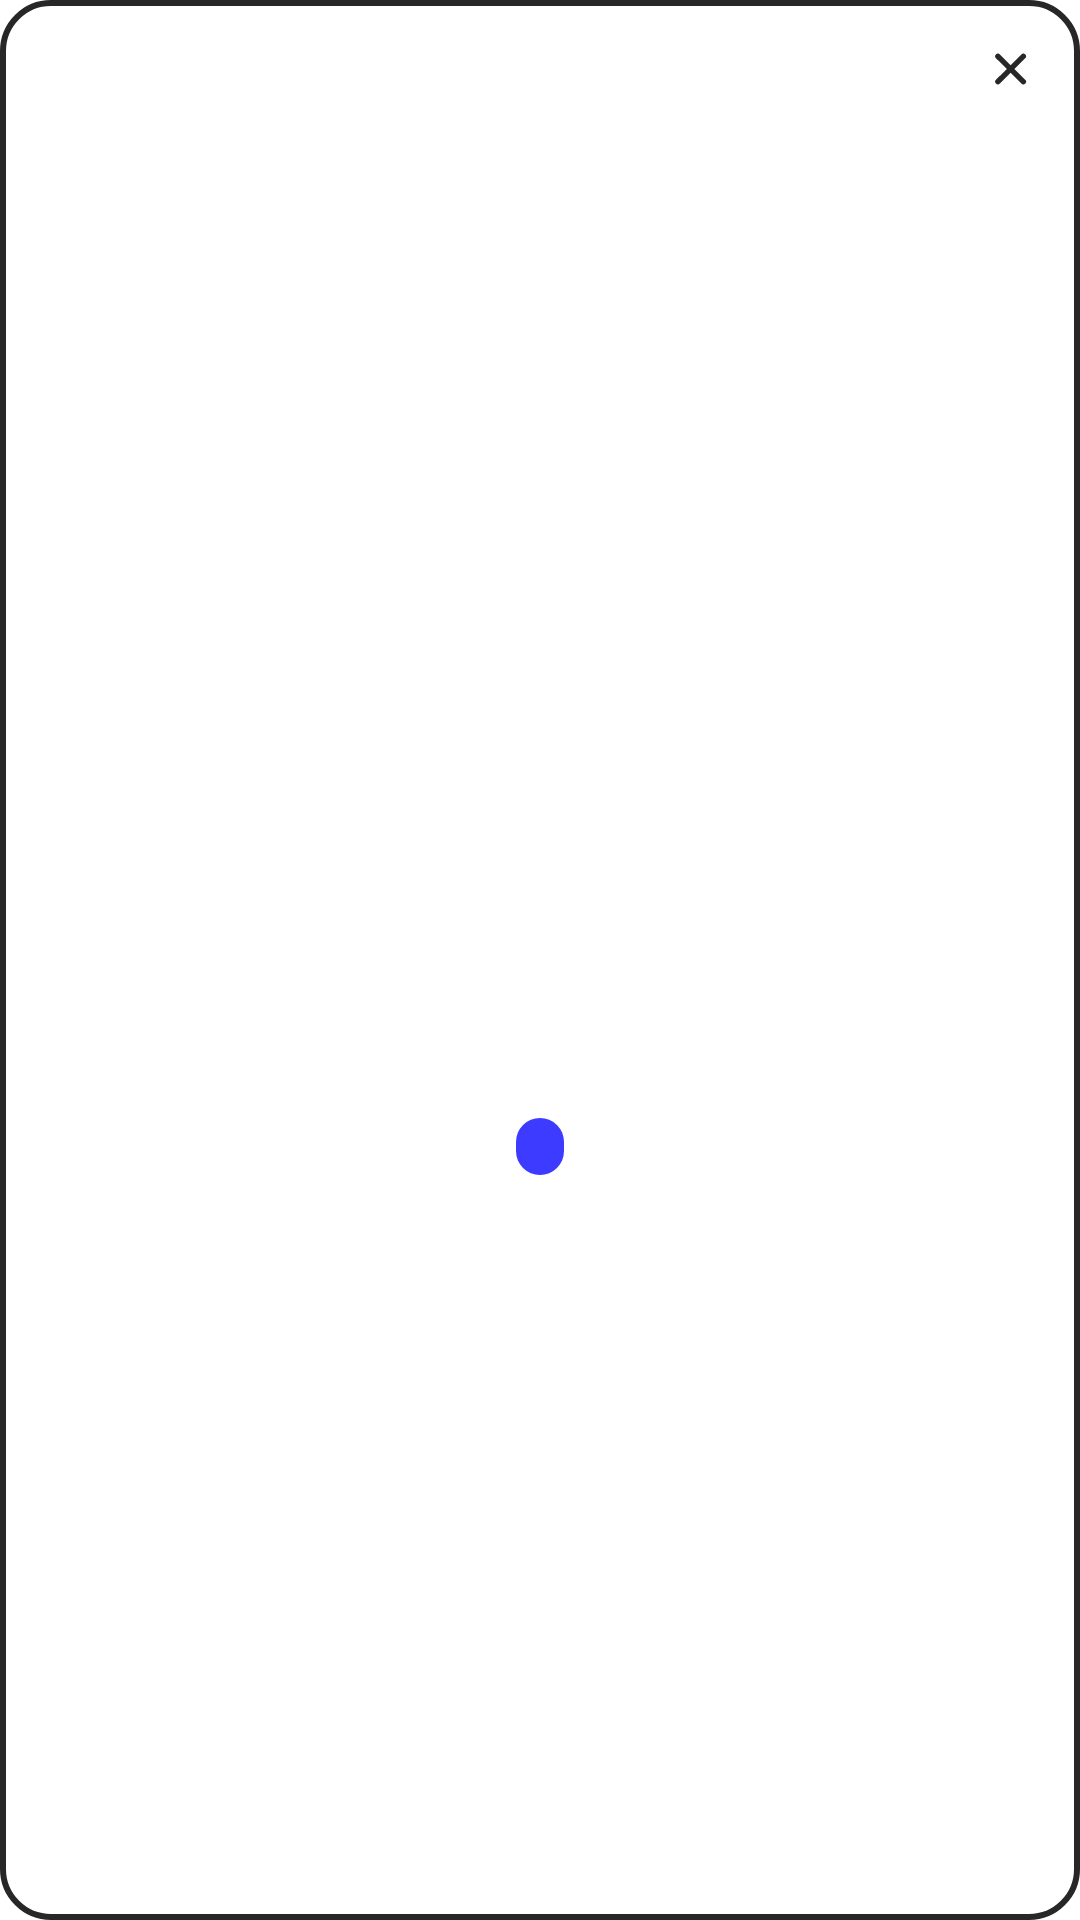

Locate icon controls on the screen. Image size 1080w x 1920h, boxes as (x1,y1,x2,y2).
close for profile: (995,53,1027,85)
